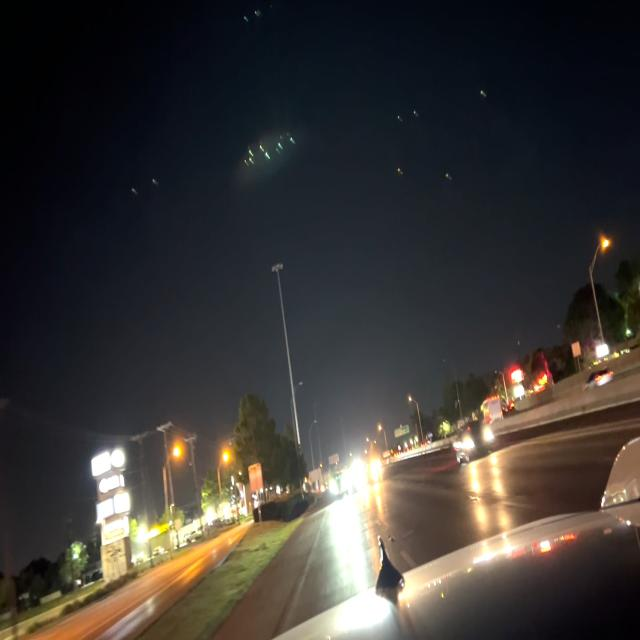back-of-sign: (249, 463, 263, 496)
